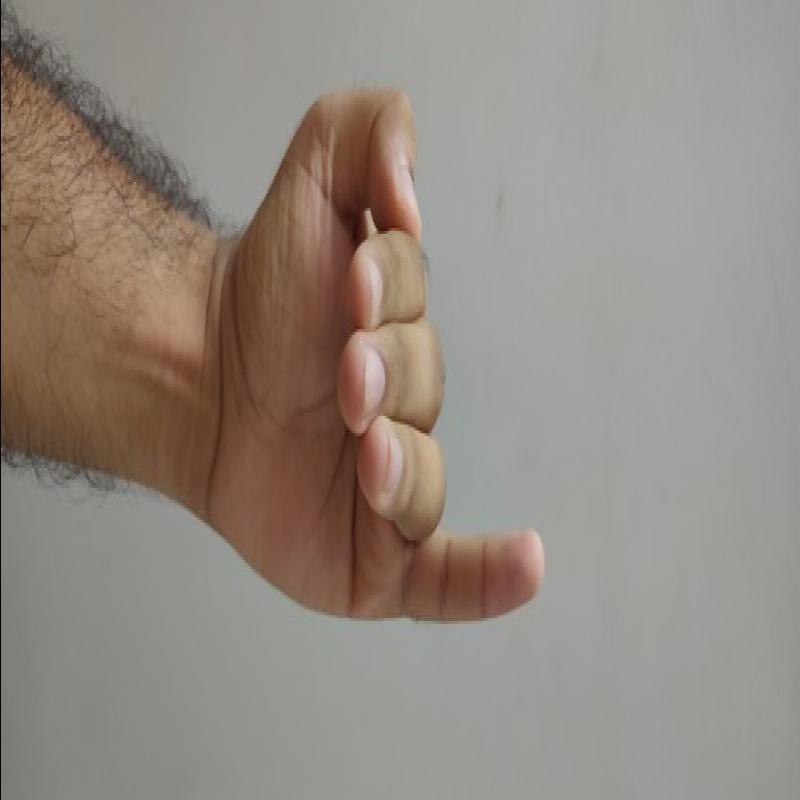Kartharee Mukham: (185, 64, 556, 646)
